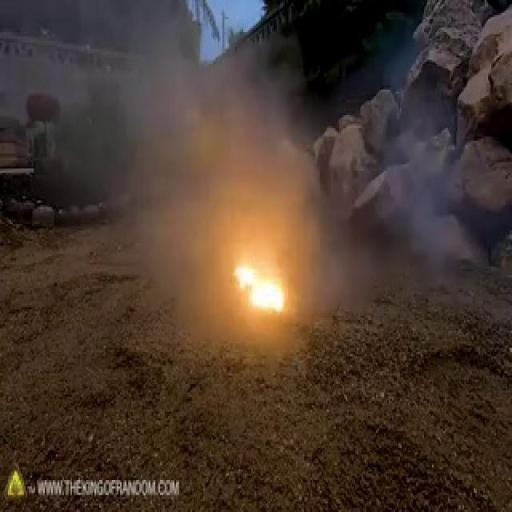smoke: (228, 254, 295, 324)
